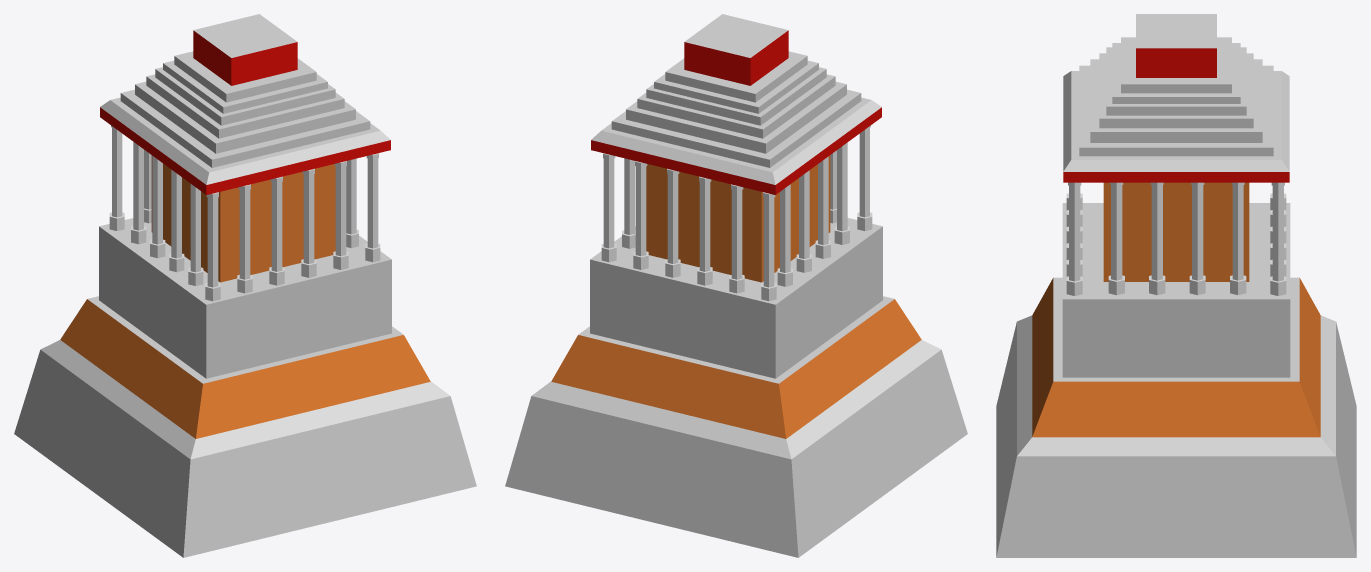
Rendered from Mausoleum in halicarnassus.fbx.
3 views of the same model, side by side, from view 1: azimuth 30°, elevation 25°; view 2: azimuth 150°, elevation 25°; view 3: azimuth 270°, elevation 25° (orthographic). The views are drawn at different scales.
Visible parts, largest first — view 1: mausoleum, column; view 2: mausoleum, column; view 3: mausoleum, column.
Boxes of the visible parts, x1=… form: mausoleum: x1=14, y1=14, x2=476, y2=557; column: x1=109, y1=125, x2=380, y2=301; mausoleum: x1=505, y1=14, x2=967, y2=557; column: x1=601, y1=125, x2=872, y2=301; mausoleum: x1=996, y1=14, x2=1356, y2=557; column: x1=1066, y1=182, x2=1286, y2=295.
Bounding box in the file's own units: 347 × 480 × 347.
